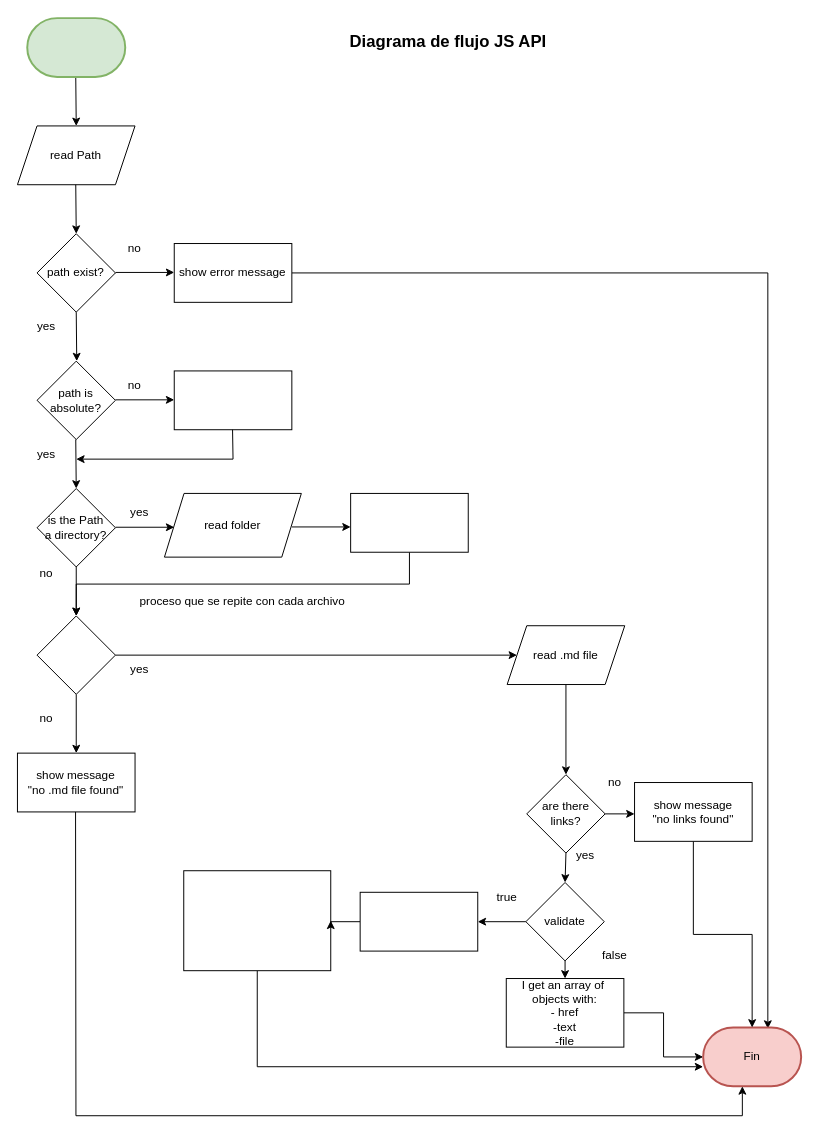
Some shapes in this 819 by 1141 pixel diagram are drawn without their labels. Here are the shapes that lost their labels. From the top down, the box of each, then its label:
(26, 17, 126, 77): Inicio
(173, 370, 292, 430): convert to absolute
(350, 492, 468, 552): get files
(36, 615, 115, 694): is .md file?
(183, 870, 331, 971): I get an array of objects with: - href -text -file -status - ok or fail
(359, 891, 478, 951): http request
